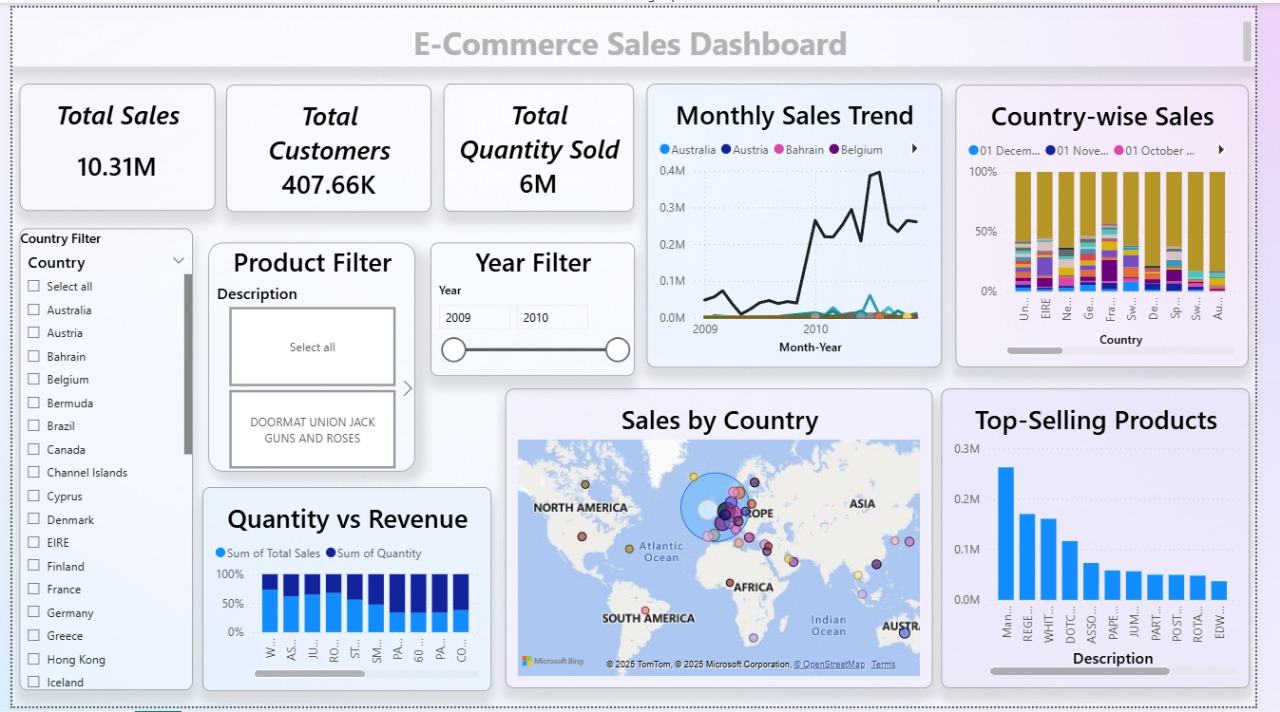

Layout of this report page (visuals, bound fields, positions):
{"tool":"powerbi","page":{"name":"Page 1","canvas":[1280,720],"ordinal":0},"visuals":[{"type":"lineChart","title":"Monthly Sales Trend","fields":{"Y":["Sum(task1-future_intern.Total Sales)"],"Series":["task1-future_intern.Country"],"Category":["task1-future_intern.Month-Year"]},"box":[652.5,78.8,303.8,292.5],"z":0},{"type":"clusteredColumnChart","title":"Top-Selling Products","fields":{"Category":["task1-future_intern.Description"],"Y":["Sum(task1-future_intern.Total Sales)"]},"box":[956.2,392.5,317.5,308.8],"z":1000},{"type":"hundredPercentStackedColumnChart","title":"Country-wise Sales","fields":{"Category":["task1-future_intern.Country"],"Y":["Sum(task1-future_intern.Total Sales)"],"Series":["task1-future_intern.Month-Year"]},"box":[971.2,80,301.2,291.2],"z":2000},{"type":"hundredPercentStackedColumnChart","title":"Quantity vs Revenue","fields":{"Category":["task1-future_intern.Description"],"Y":["Sum(task1-future_intern.Total Sales)","Sum(task1-future_intern.Quantity)"]},"box":[196.2,493.8,297.5,210],"z":3000},{"type":"map","title":"Sales by Country","fields":{"Category":["task1-future_intern.Country"],"Size":["Sum(task1-future_intern.Total Sales)"]},"box":[507.5,392.5,440,308.8],"z":4000},{"type":"card","title":"Total Sales","fields":{"Values":["Sum(task1-future_intern.Total Sales)"]},"box":[7.5,78.8,201.2,131.2],"z":5000},{"type":"card","title":"Total Quantity Sold","fields":{"Values":["Sum(task1-future_intern.Quantity)"]},"box":[443.9,78.3,195.7,132.1],"z":6000},{"type":"card","title":"Total Customers","fields":{"Values":["CountNonNull(task1-future_intern.Customer ID)"]},"box":[220,80,211.2,131.2],"z":7000},{"type":"slicer","title":"Country Filter","fields":{"Values":["task1-future_intern.Country"]},"box":[7.5,227.5,178.8,476.2],"z":8000},{"type":"slicer","title":"Product Filter","fields":{"Values":["task1-future_intern.Description"]},"box":[201.2,242.5,212.5,236.2],"z":9000},{"type":"slicer","title":"Year Filter","fields":{"Values":["task1-future_intern.Month-Year.Variation.Date Hierarchy.Year"]},"box":[430,242.5,210,137.5],"z":10000},{"type":"textbox","box":[0,10,1280,51.2],"z":11000}]}

Visuals, with their boxes in screenshot pixels (x1, y1, x2, y2), scaled from the page's 1280x720 canvas onto the 1280x712 screenshot:
"Monthly Sales Trend" lineChart: bbox=[652, 78, 956, 367]
"Top-Selling Products" clusteredColumnChart: bbox=[956, 388, 1274, 694]
"Country-wise Sales" hundredPercentStackedColumnChart: bbox=[971, 79, 1272, 367]
"Quantity vs Revenue" hundredPercentStackedColumnChart: bbox=[196, 488, 494, 696]
"Sales by Country" map: bbox=[508, 388, 948, 694]
"Total Sales" card: bbox=[8, 78, 209, 208]
"Total Quantity Sold" card: bbox=[444, 77, 640, 208]
"Total Customers" card: bbox=[220, 79, 431, 209]
"Country Filter" slicer: bbox=[8, 225, 186, 696]
"Product Filter" slicer: bbox=[201, 240, 414, 473]
"Year Filter" slicer: bbox=[430, 240, 640, 376]
textbox: bbox=[0, 10, 1279, 61]
